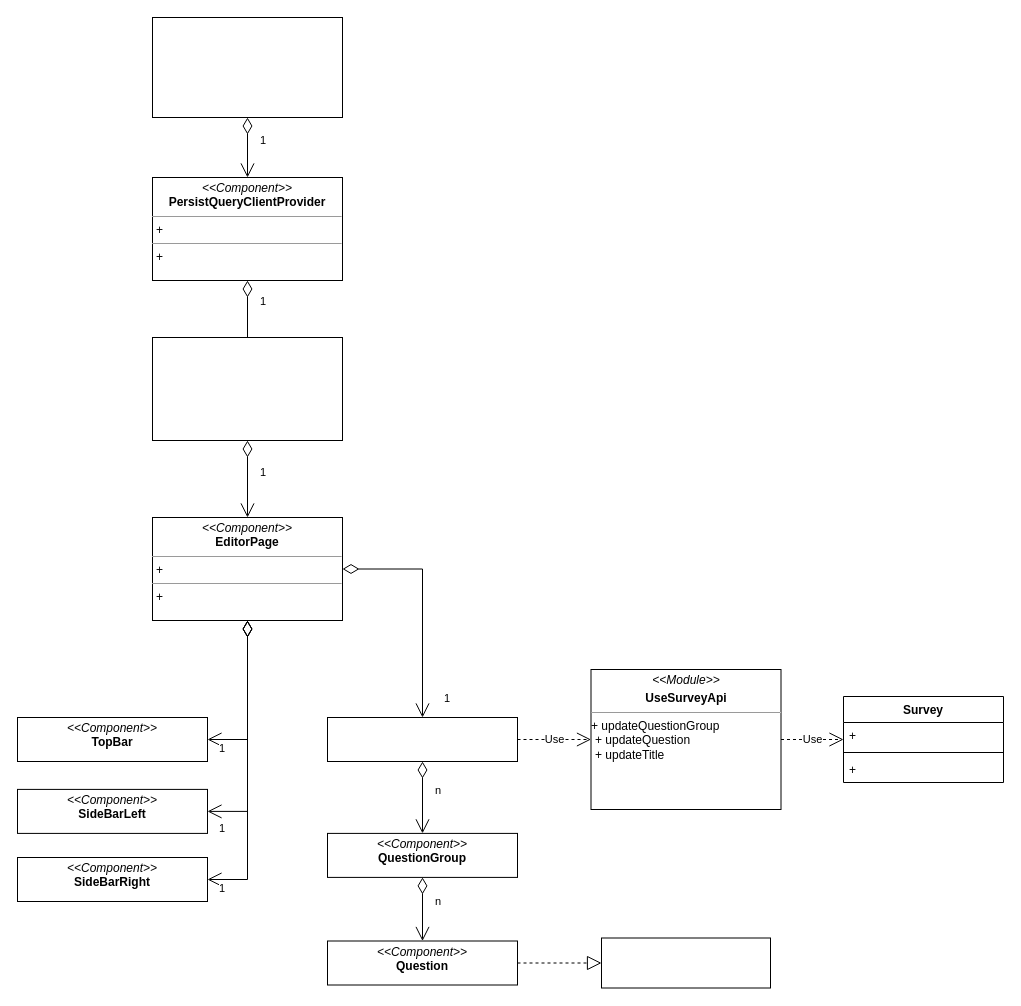
This 1021x1006 diagram has some shape labels left out. The shapes that lost their labels are listed below. From the top down, each one's centre as x and y in pixels, then its label:
At point (247, 67): "<<Component>> App + +".
At point (247, 388): "<<Component>> Router + +".
At point (422, 739): "<<Component>> Survey".
At point (685, 962): "«interface» QuestionTypeInterface".
